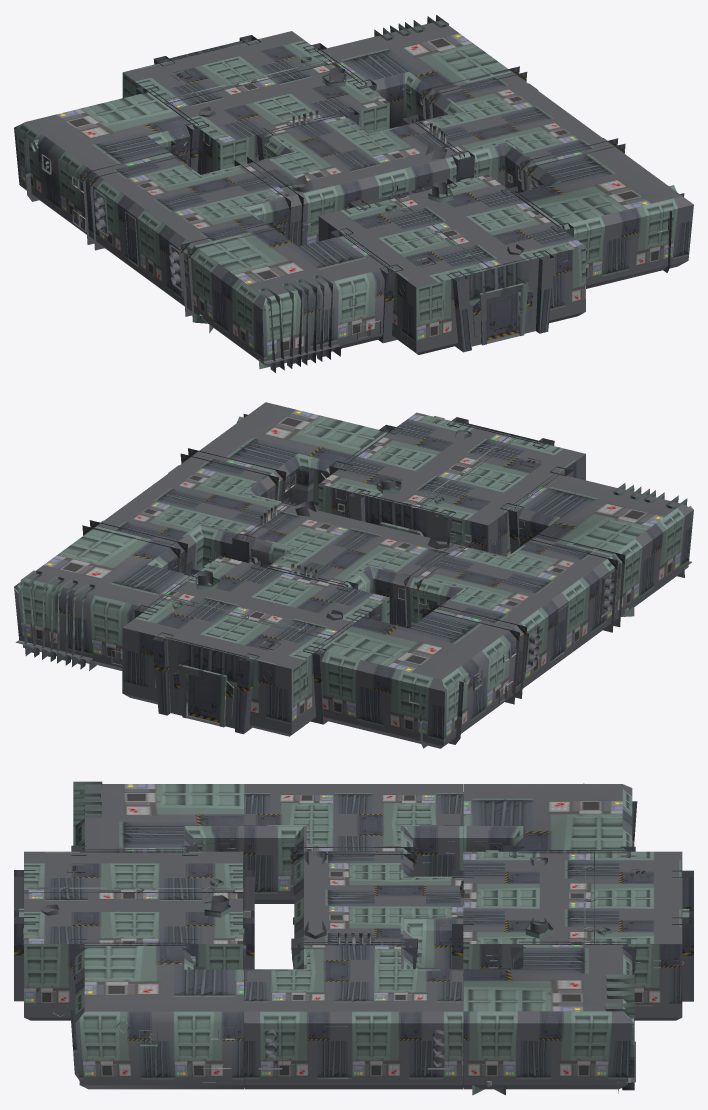
The model's file is Combined_Mesh_root_scene__22_9f3a19a4__zombies2_diffuse_06_4771cff4_c1f257.obj.
3 views of the same model, one above another, from view 1: azimuth 30°, elevation 25°; view 2: azimuth 150°, elevation 25°; view 3: azimuth 270°, elevation 25° (orthographic). The views are drawn at different scales.
Bounding box in the file's own units: 52.07 × 9.64 × 62.1.
147 materials, 147 textured.
